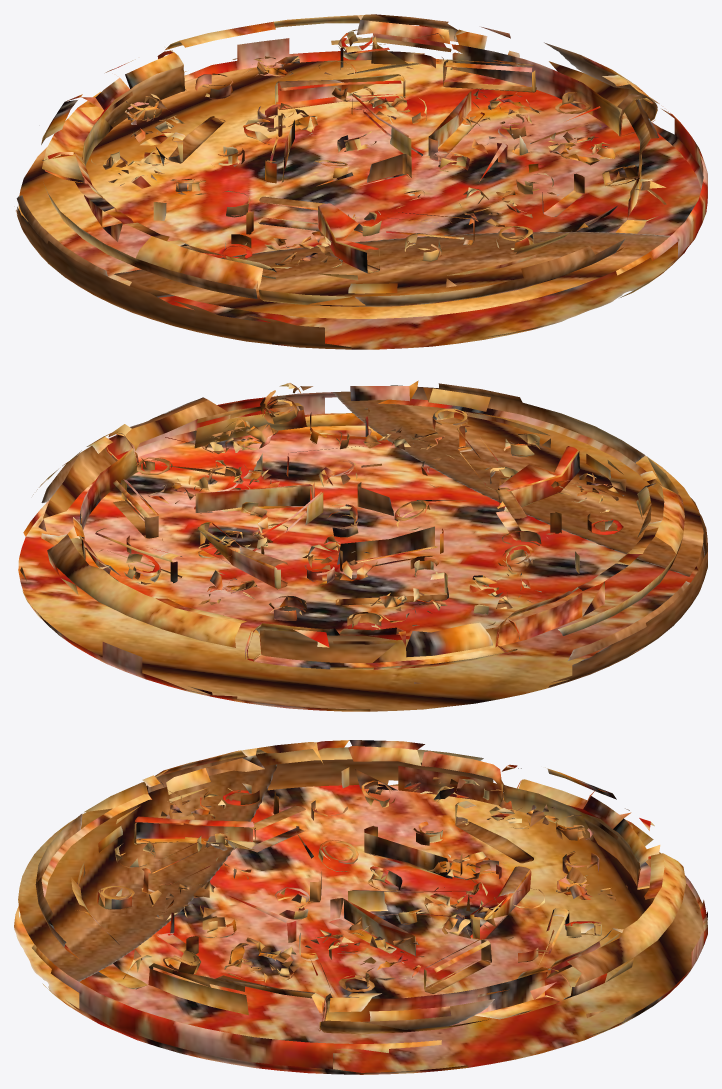
The model's file is pizza_la_mia_creazione.fbx.
3 renders of one model, top to bottom at view 1: azimuth 30°, elevation 25°; view 2: azimuth 150°, elevation 25°; view 3: azimuth 270°, elevation 25°, orthographic.
Visible parts, largest first — view 1: meshes[0]; view 2: meshes[0]; view 3: meshes[0].
Part boxes in pixels (box(x1,y1,x2,y2)): meshes[0]: box(16, 14, 707, 349); meshes[0]: box(18, 380, 707, 711); meshes[0]: box(14, 740, 707, 1074).
Bounding box in the file's own units: 99.8 × 10.35 × 99.8.
